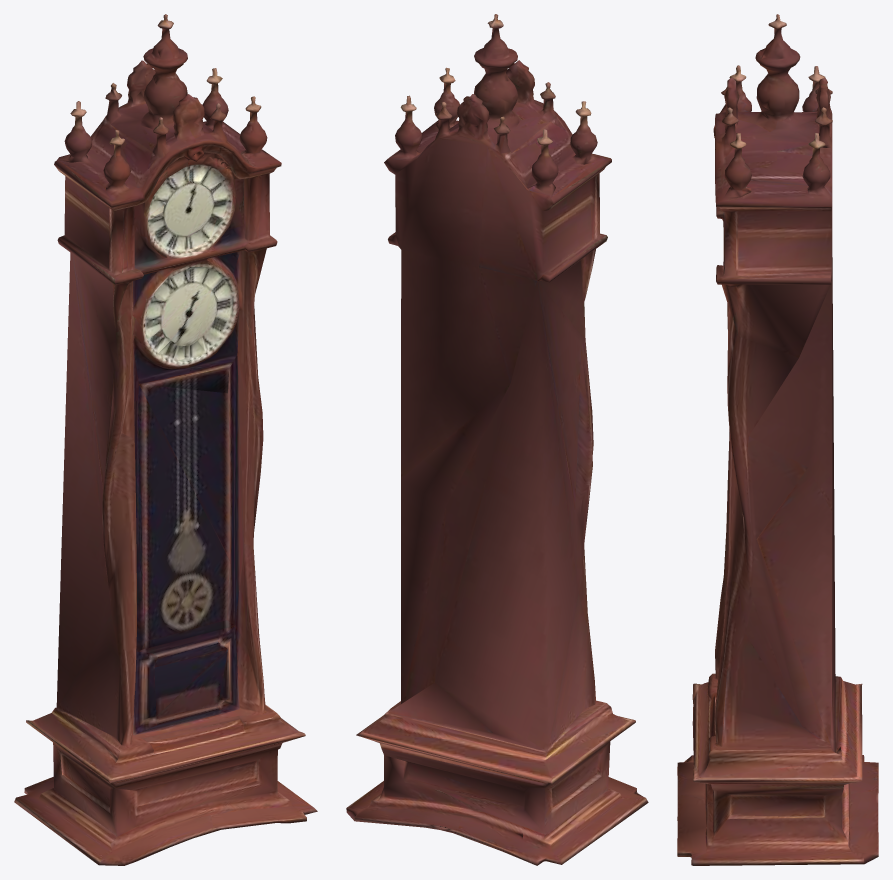
Rendered from grandfather_clock.glb.
3 renders of one model, left to right at view 1: azimuth 30°, elevation 25°; view 2: azimuth 150°, elevation 25°; view 3: azimuth 270°, elevation 25°, orthographic.
Bounding box in the file's own units: 0.5485 × 1.9 × 0.4342.
Materials: 1 (1 with a texture image).
